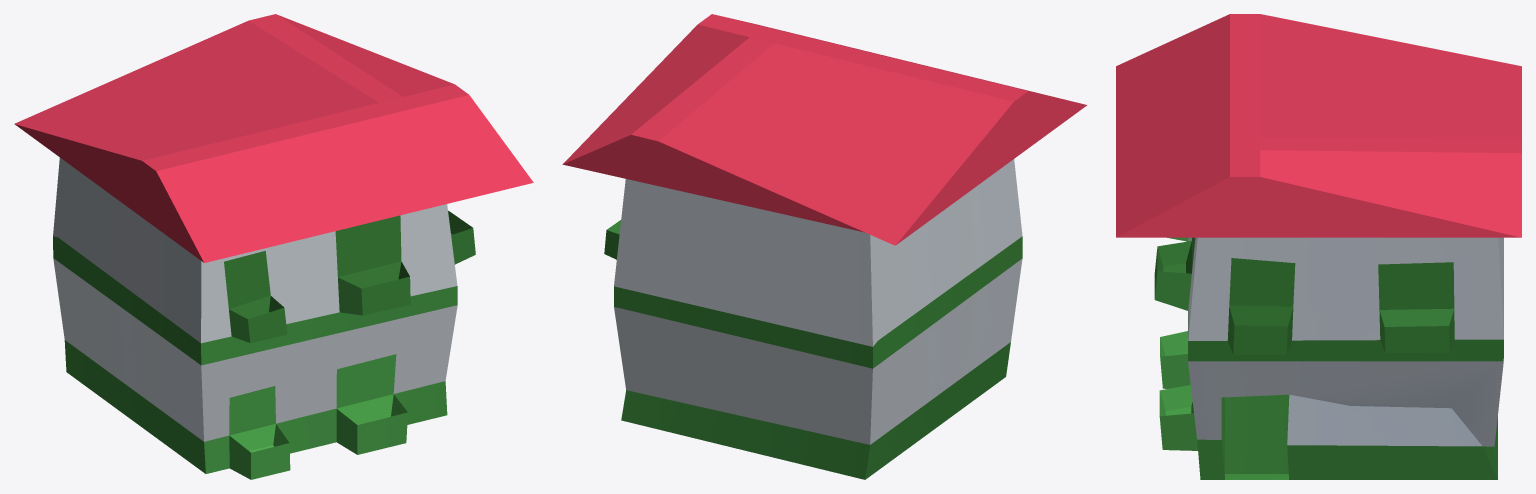
Rendered from casa_8_1.glb.
3 renders of one model, left to right at view 1: azimuth 30°, elevation 25°; view 2: azimuth 150°, elevation 25°; view 3: azimuth 270°, elevation 25°, orthographic. The views are drawn at different scales.
Visible parts, largest first — view 1: Cube; view 2: Cube; view 3: Cube.
Boxes of the visible parts, left/top/right/bottom form: Cube: left=14, top=14, right=533, bottom=479; Cube: left=562, top=14, right=1087, bottom=479; Cube: left=1116, top=14, right=1521, bottom=479.
Size of what is drawn, in the model's own units: 25.66 by 22.48 by 25.66.
1 material, 1 textured.
